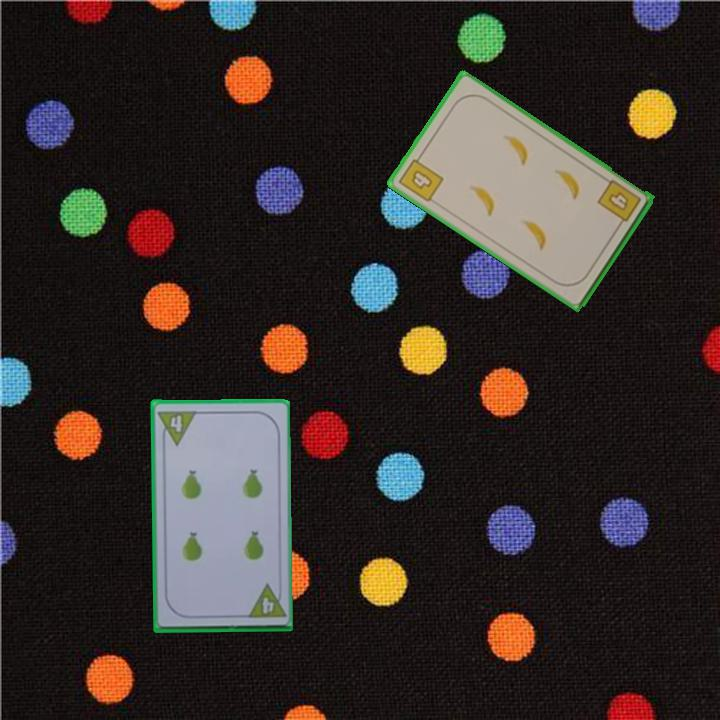4b: (395, 150, 446, 205), (594, 176, 644, 231)
4p: (154, 407, 199, 448), (243, 581, 287, 621)
